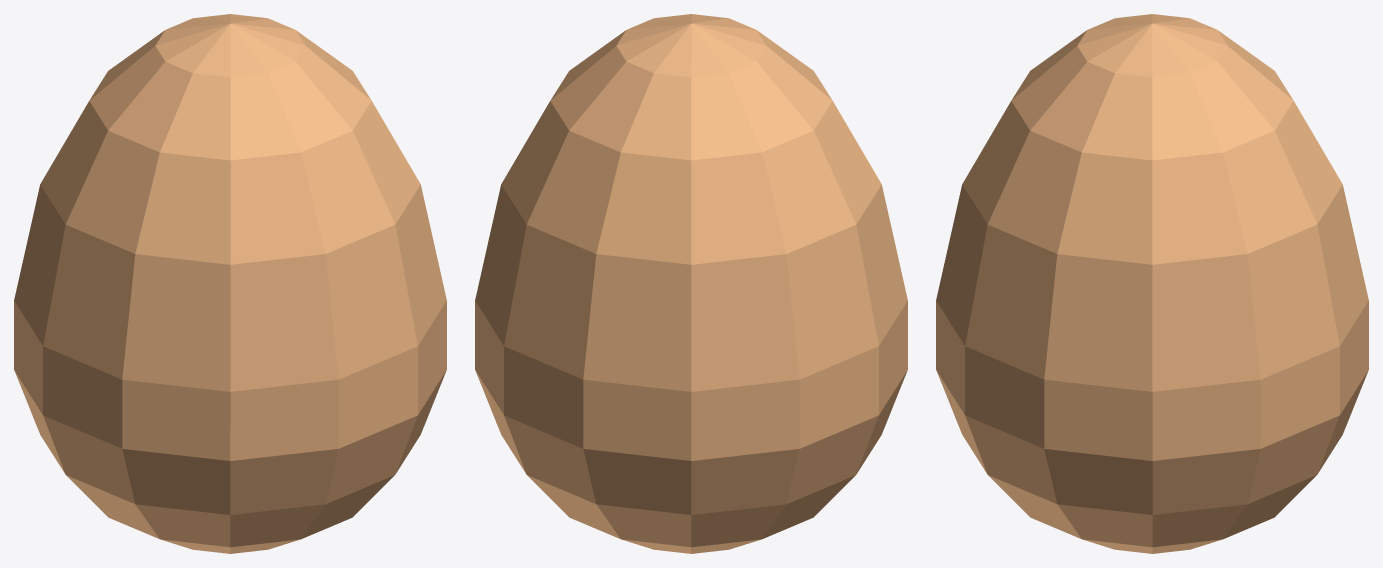
File: egg2.glb
3 views of the same model, side by side, from view 1: azimuth 30°, elevation 25°; view 2: azimuth 150°, elevation 25°; view 3: azimuth 270°, elevation 25° (orthographic).
Parts seen in each view (by area): view 1: group35554845; view 2: group35554845; view 3: group35554845.
Part boxes in pixels (x1=…): group35554845: x1=14, y1=14, x2=446, y2=553; group35554845: x1=475, y1=14, x2=907, y2=553; group35554845: x1=936, y1=14, x2=1368, y2=553.
Bounding box in the file's own units: 3.84 × 5 × 3.84.
